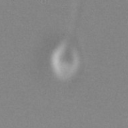normal: (64, 1, 86, 40)
